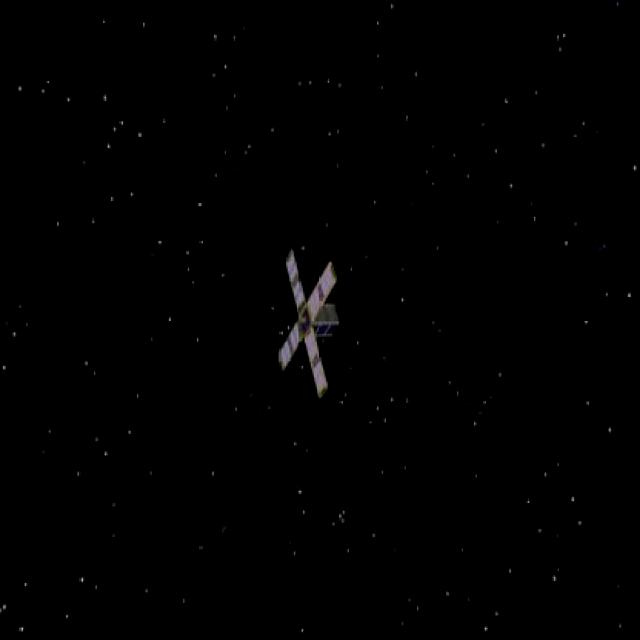satellite: (265, 252, 357, 398)
